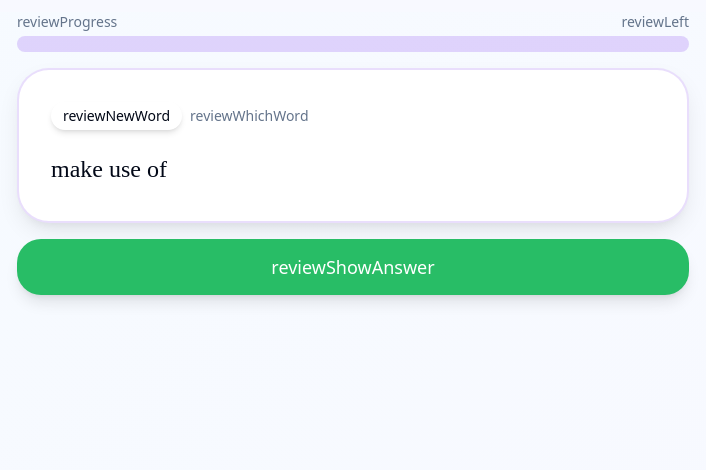
Test case: ReviewSession › production formats › asks for the word from its meaning
Expected: the text with test id "review-front" reads "make use of", [51, 156, 167, 182]
Click the button "reviewShowAnswer" at (353, 267), box [17, 239, 689, 295]
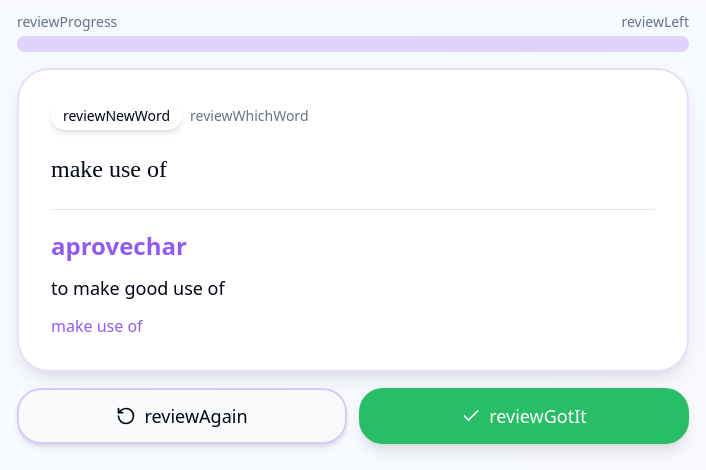
Now the text with test id "review-answer-word" reads "aprovechar", box [51, 229, 187, 262]
